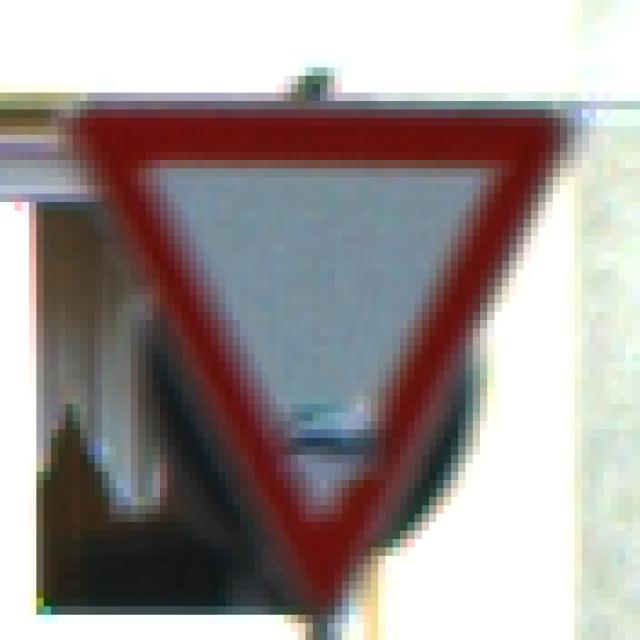Give Way: (59, 52, 590, 582)
